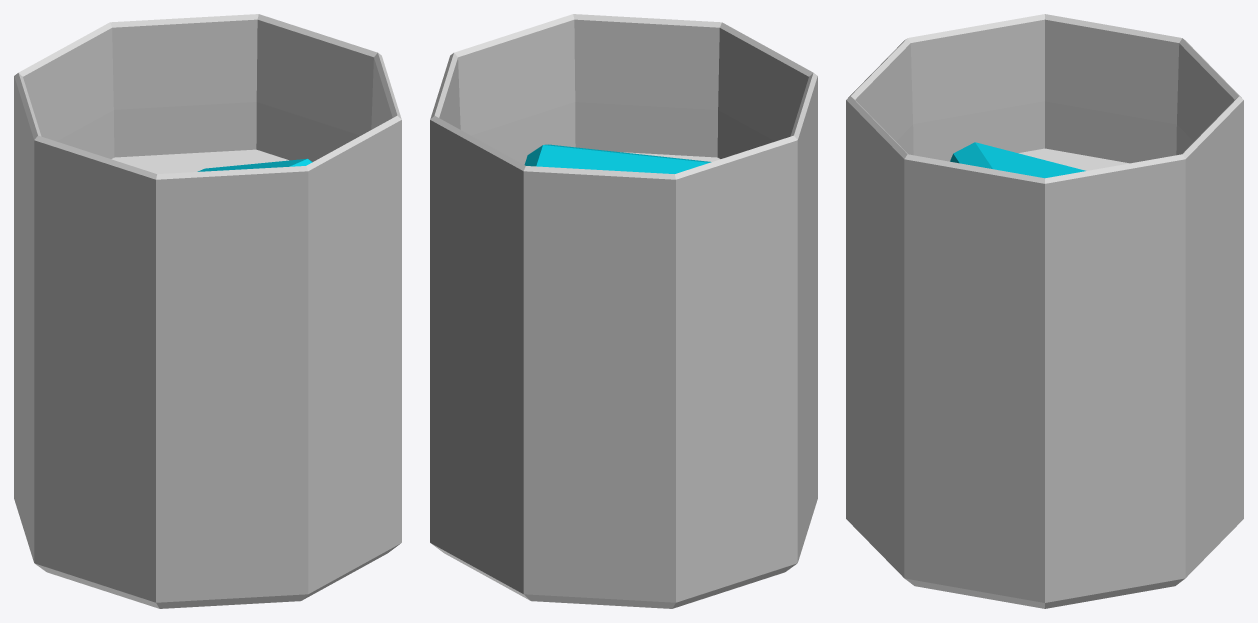
Rendered from Copa_1_2.fbx.
3 renders of one model, left to right at view 1: azimuth 30°, elevation 25°; view 2: azimuth 150°, elevation 25°; view 3: azimuth 270°, elevation 25°, orthographic.
Visible parts, largest first — view 1: Copa_1_3, Copa_1_3.002, Copa_1_3.001; view 2: Copa_1_3, Copa_1_3.001; view 3: Copa_1_3, Copa_1_3.001, Copa_1_3.002.
Part boxes in pixels (left/top/right/bottom): Copa_1_3: left=14, top=14, right=401, bottom=608; Copa_1_3.002: left=111, top=149, right=288, bottom=173; Copa_1_3.001: left=197, top=158, right=312, bottom=171; Copa_1_3: left=430, top=14, right=817, bottom=608; Copa_1_3.001: left=524, top=144, right=711, bottom=173; Copa_1_3: left=846, top=14, right=1243, bottom=608; Copa_1_3.001: left=950, top=142, right=1085, bottom=178; Copa_1_3.002: left=1018, top=148, right=1129, bottom=170.
Bounding box in the file's own units: 67.63 × 81.6 × 67.63.
